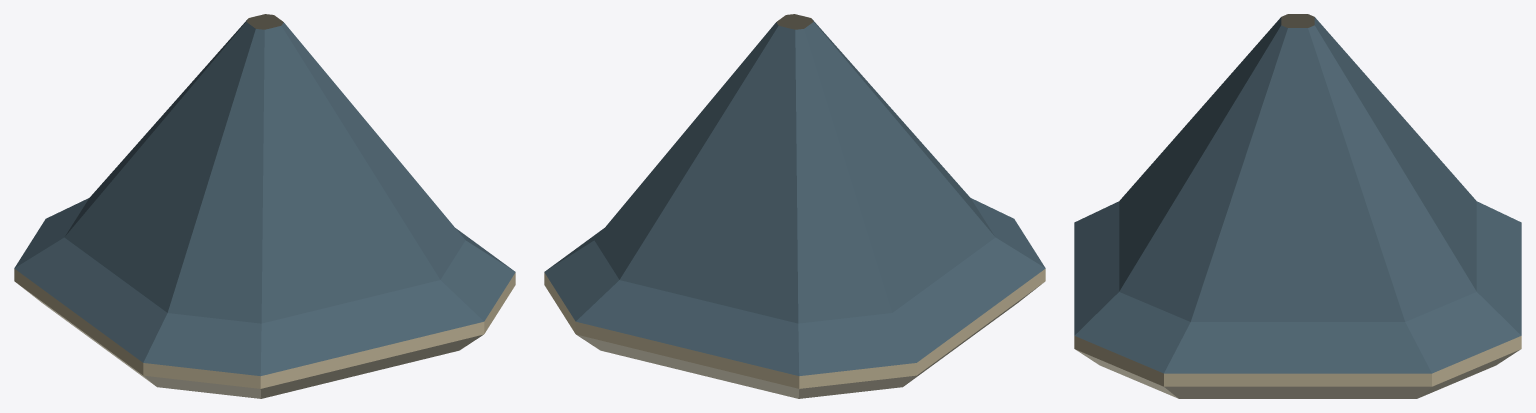
Rendered from faceted_spire.glb.
The picture shows the model from 3 angles, left to right: view 1: azimuth 30°, elevation 25°; view 2: azimuth 150°, elevation 25°; view 3: azimuth 270°, elevation 25°; orthographic projection. The views are drawn at different scales.
Parts seen in each view (by area): view 1: Faceted spire; view 2: Faceted spire; view 3: Faceted spire.
Boxes of the visible parts, x1,y1,x2,y2 form: Faceted spire: (14, 14, 515, 398); Faceted spire: (544, 14, 1045, 398); Faceted spire: (1074, 14, 1521, 398).
Size of the model in its own units: 2.3 by 1.67 by 2.3.
